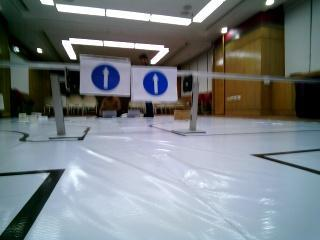straight: (130, 63, 176, 104), (81, 56, 131, 93)
